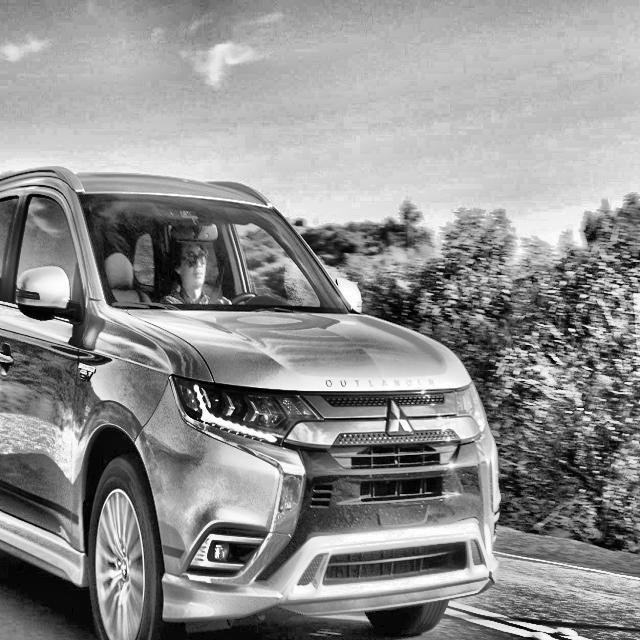light_vehicle: (0, 167, 501, 640)
